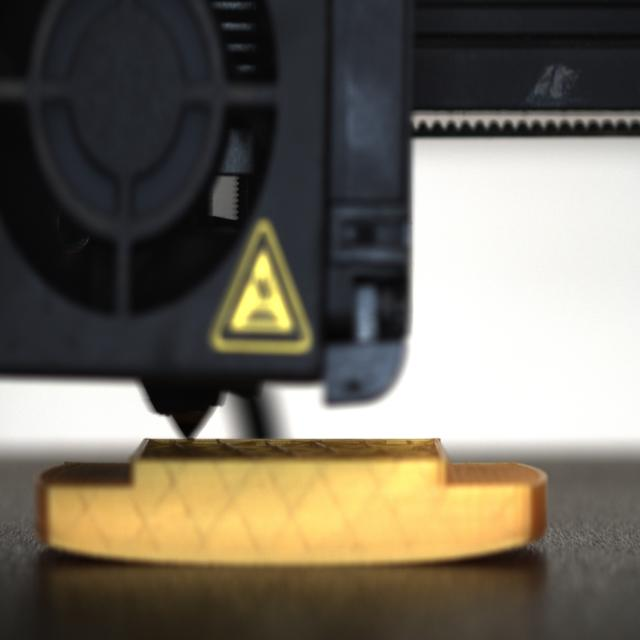Warping: (457, 531, 543, 567)
